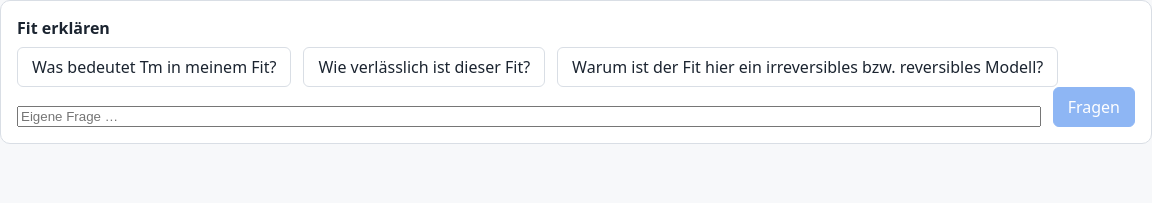
Test: ExplainPanel › shows a readable error on rate limit
This screenshot has width=1152, height=203.
Click the button "Was bedeutet Tm in meinem Fit?".
click(154, 67)  # box [17,47,291,87]
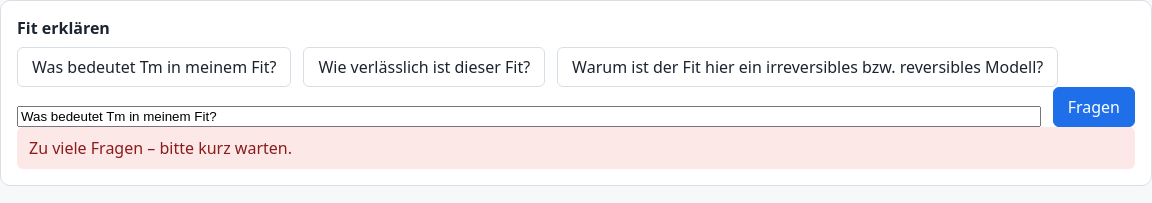
Expected: the message shows "Zu viele Fragen", [29,137,292,159]
